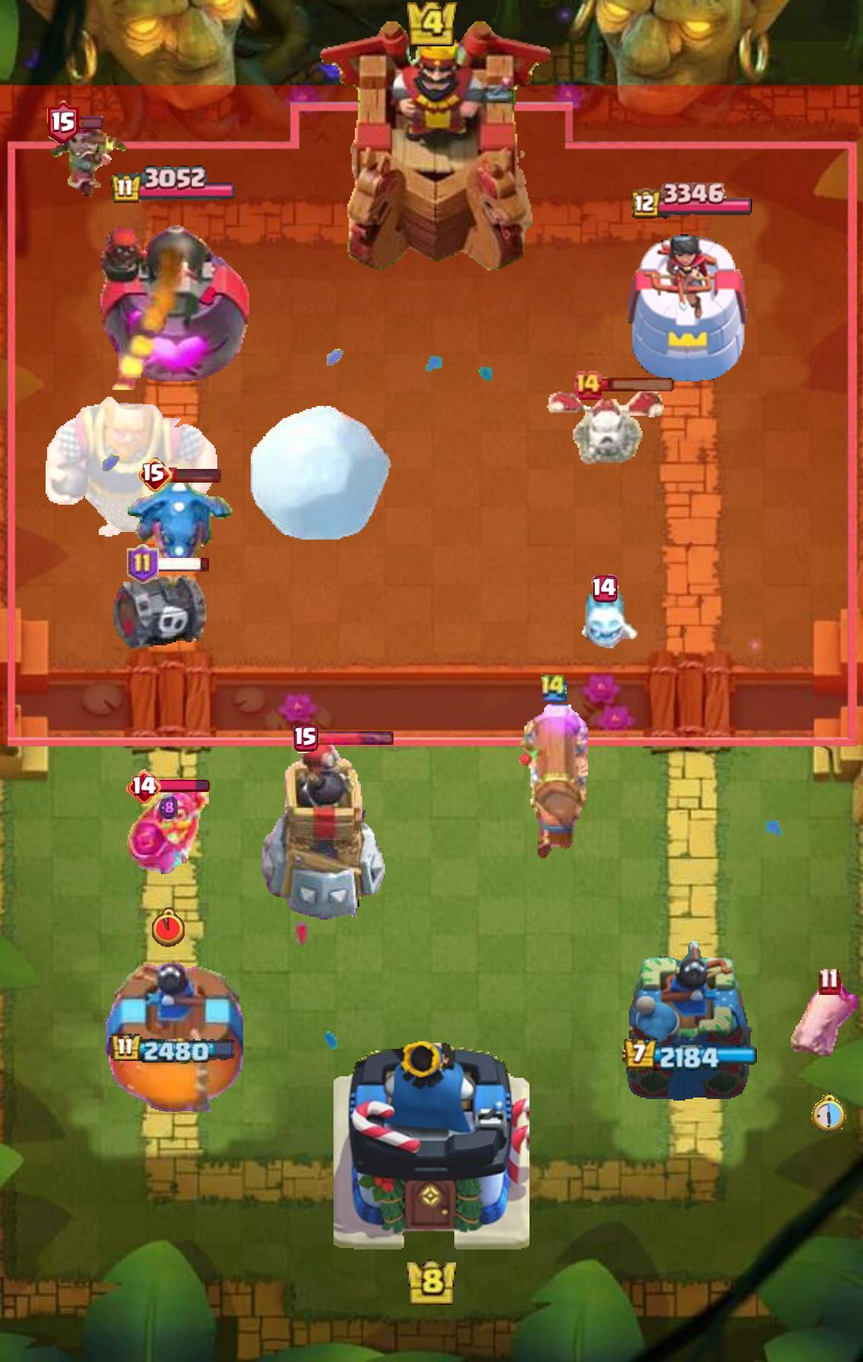bar: (599, 377, 678, 394), (315, 730, 394, 747), (155, 556, 211, 572), (169, 467, 222, 483), (158, 779, 210, 793), (75, 115, 104, 130)
bar-level: (47, 100, 79, 144), (127, 544, 159, 584), (126, 769, 162, 803), (138, 458, 172, 493), (572, 370, 602, 401), (292, 724, 319, 753), (591, 574, 618, 602), (818, 967, 841, 996)
